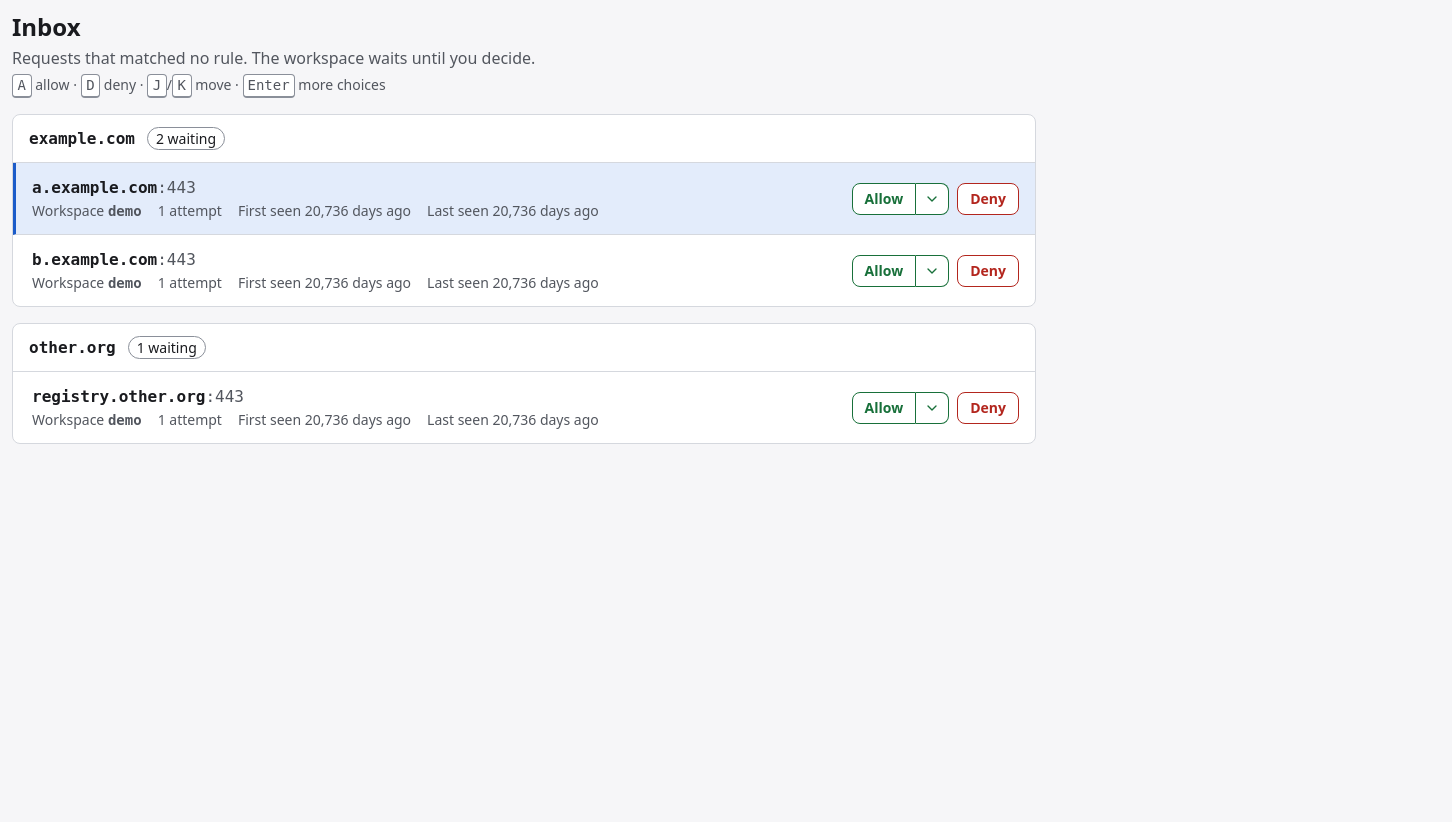
deciding with the buttons › undoes from the toast: the rule is deleted and the page says so
The image size is (1452, 822).
Expected: the heading "example.com" is shown, [29,128,135,148]
Click the button with aria-label "Allow a.example.com for demo" at coordinates (884, 198), box [852,182,916,214]
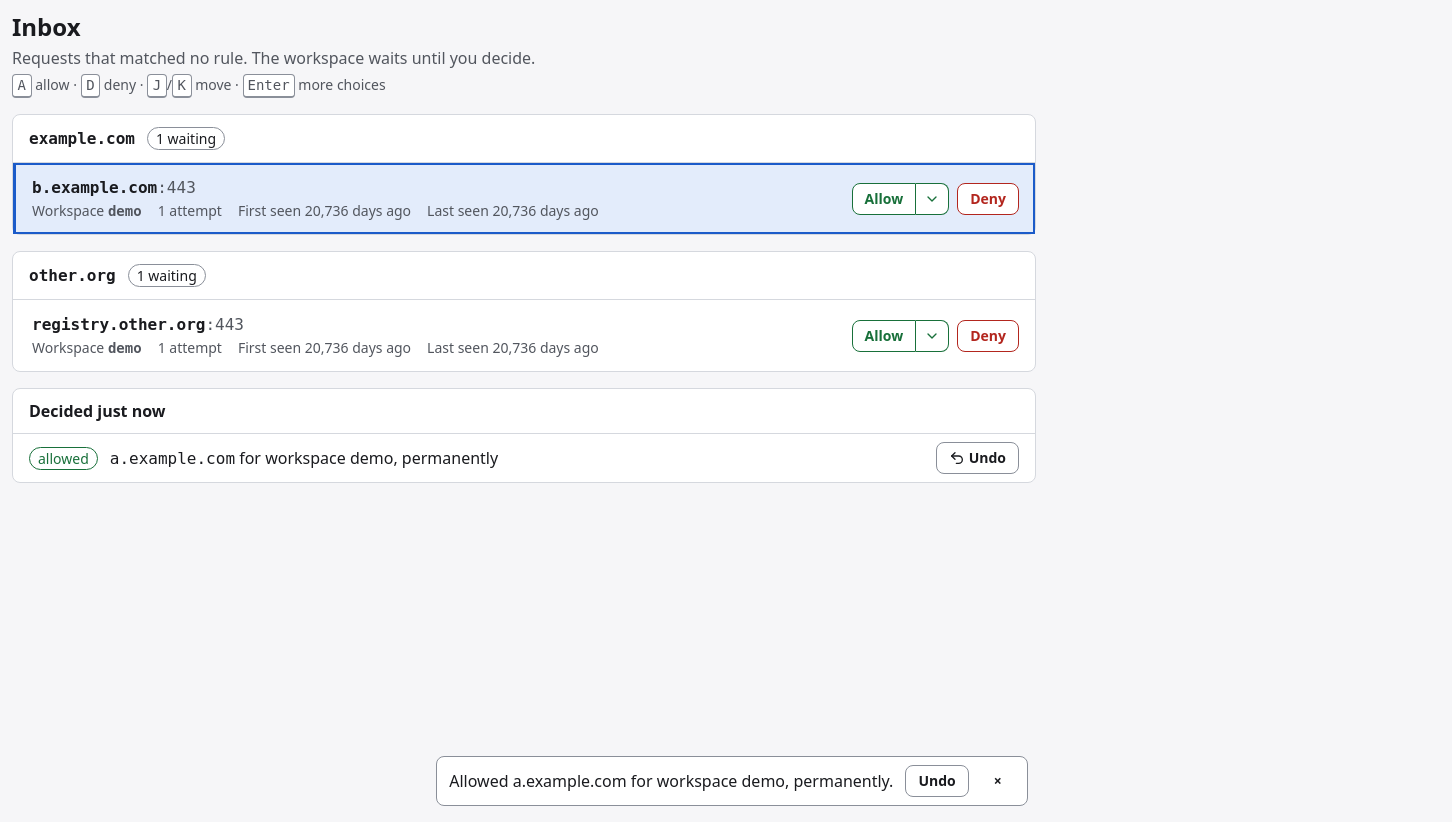
Click the 2nd button "Undo" at coordinates (937, 781), box [905,765,969,797]
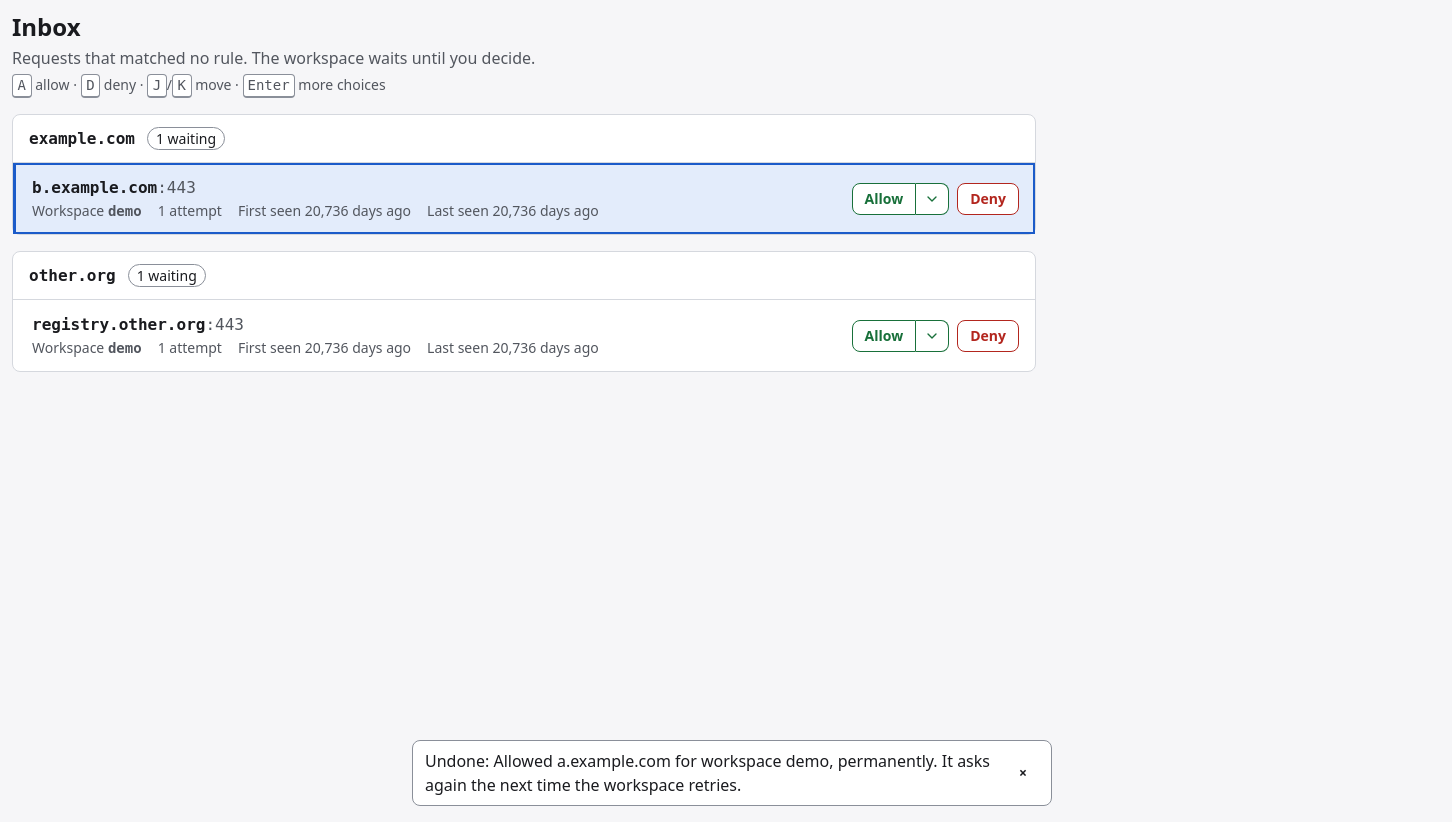
Expected: the text "Undone: Allowed a.example.com" is shown, [425,750,990,796]
Expected: the heading "Decided just now" is gone
